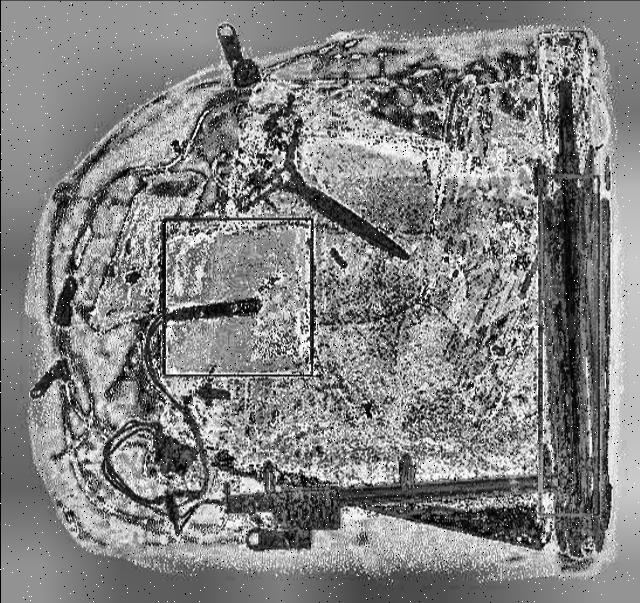Knife: (231, 119, 409, 263)
